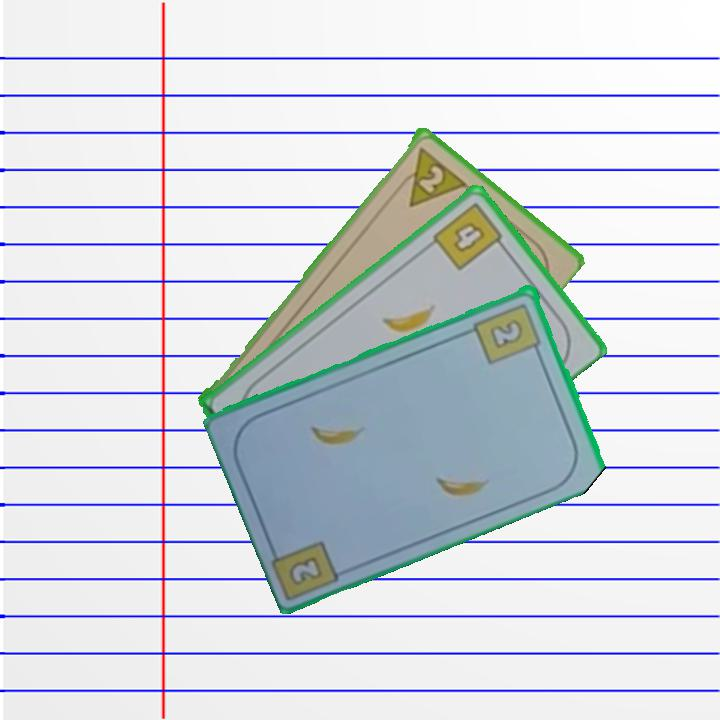2b: (471, 299, 544, 367), (285, 551, 326, 589)
2p: (392, 143, 468, 210)
4b: (429, 198, 509, 274)
